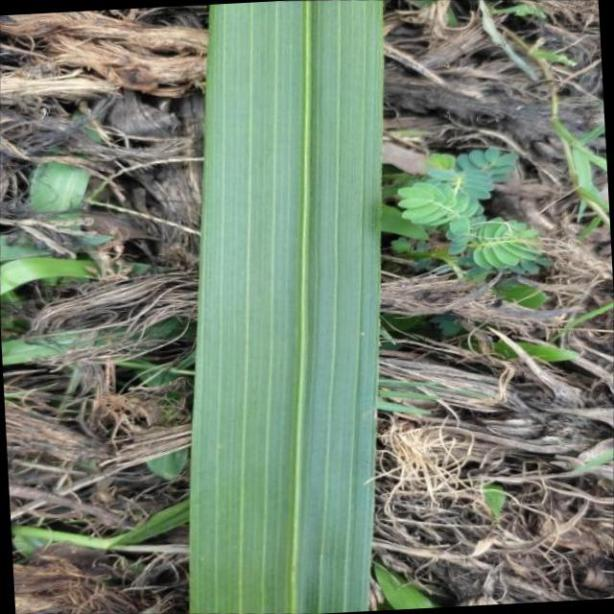Healthy: (187, 0, 384, 614)
